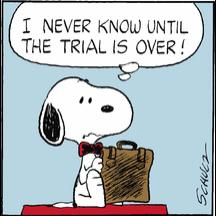snoopy: (38, 76, 134, 208)
